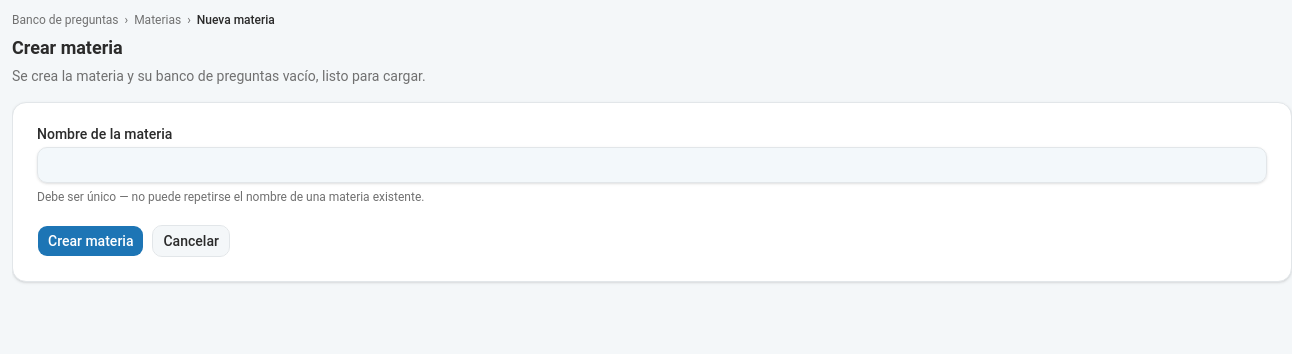
Scenario: NuevaMateria › nombre duplicado (409) muestra error inline sin navegar
The width and height of the screenshot is (1292, 354).
Type "Ingeniería de Software" into the field labelled "Nombre de la materia" at (652, 165), box x1=37 y1=147 x2=1267 y2=183
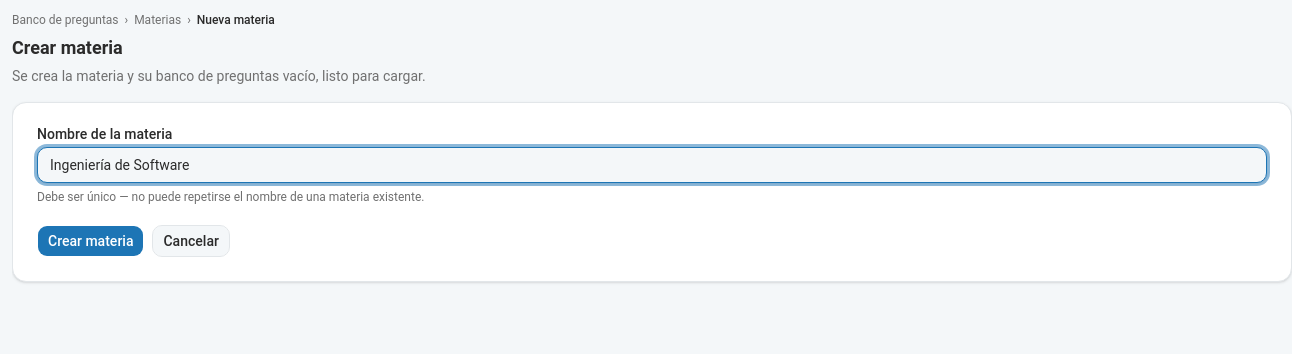
Click the button "Crear materia" at (91, 241), box x1=37 y1=225 x2=144 y2=257
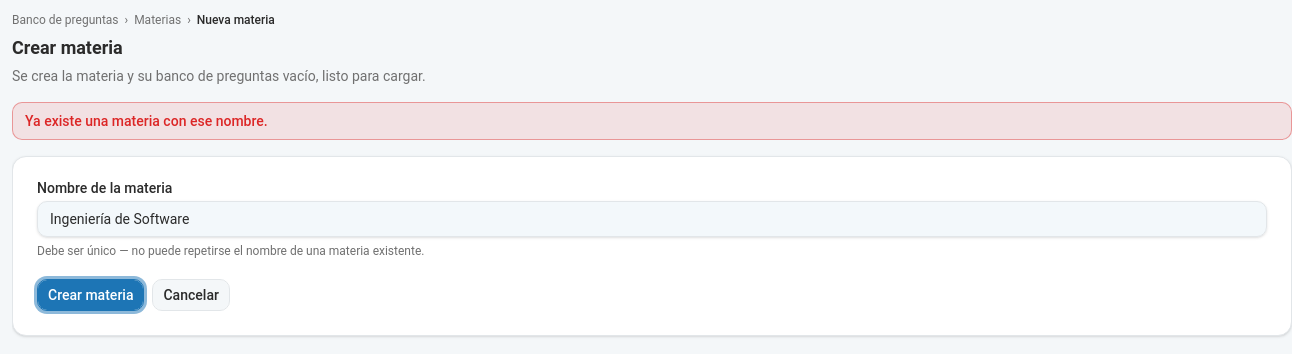
Result: the message reads "Ya existe una materia con ese nombre." at x1=25 y1=113 x2=268 y2=129
